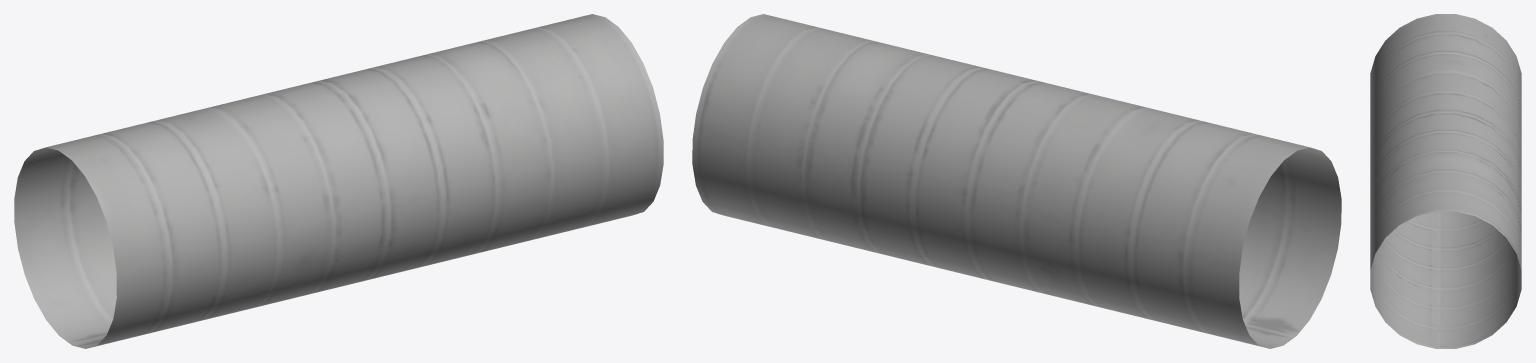
The picture shows the model from 3 angles, left to right: view 1: azimuth 30°, elevation 25°; view 2: azimuth 150°, elevation 25°; view 3: azimuth 270°, elevation 25°; orthographic projection. The views are drawn at different scales.
Visible parts, largest first — view 1: SM_Tube2_LOD0; view 2: SM_Tube2_LOD0; view 3: SM_Tube2_LOD0.
Part boxes in pixels (x1,y1,x2,y2): SM_Tube2_LOD0: [14, 14, 663, 348]; SM_Tube2_LOD0: [692, 14, 1341, 348]; SM_Tube2_LOD0: [1370, 14, 1521, 348].
Size of the model in its own units: 100 by 32.43 by 32.43.
